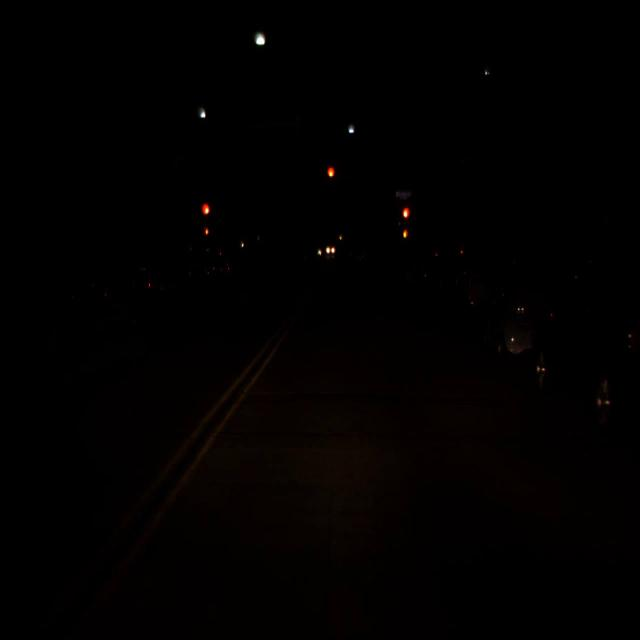stop: (326, 166, 336, 187), (202, 203, 210, 226), (402, 207, 410, 229)
stop traffic light: (326, 166, 336, 187), (202, 203, 210, 226), (402, 207, 410, 229)
